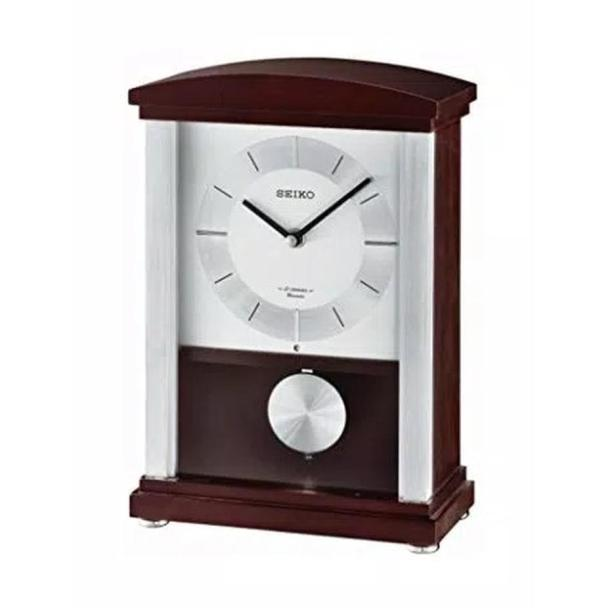Jam: (177, 122, 404, 348)
